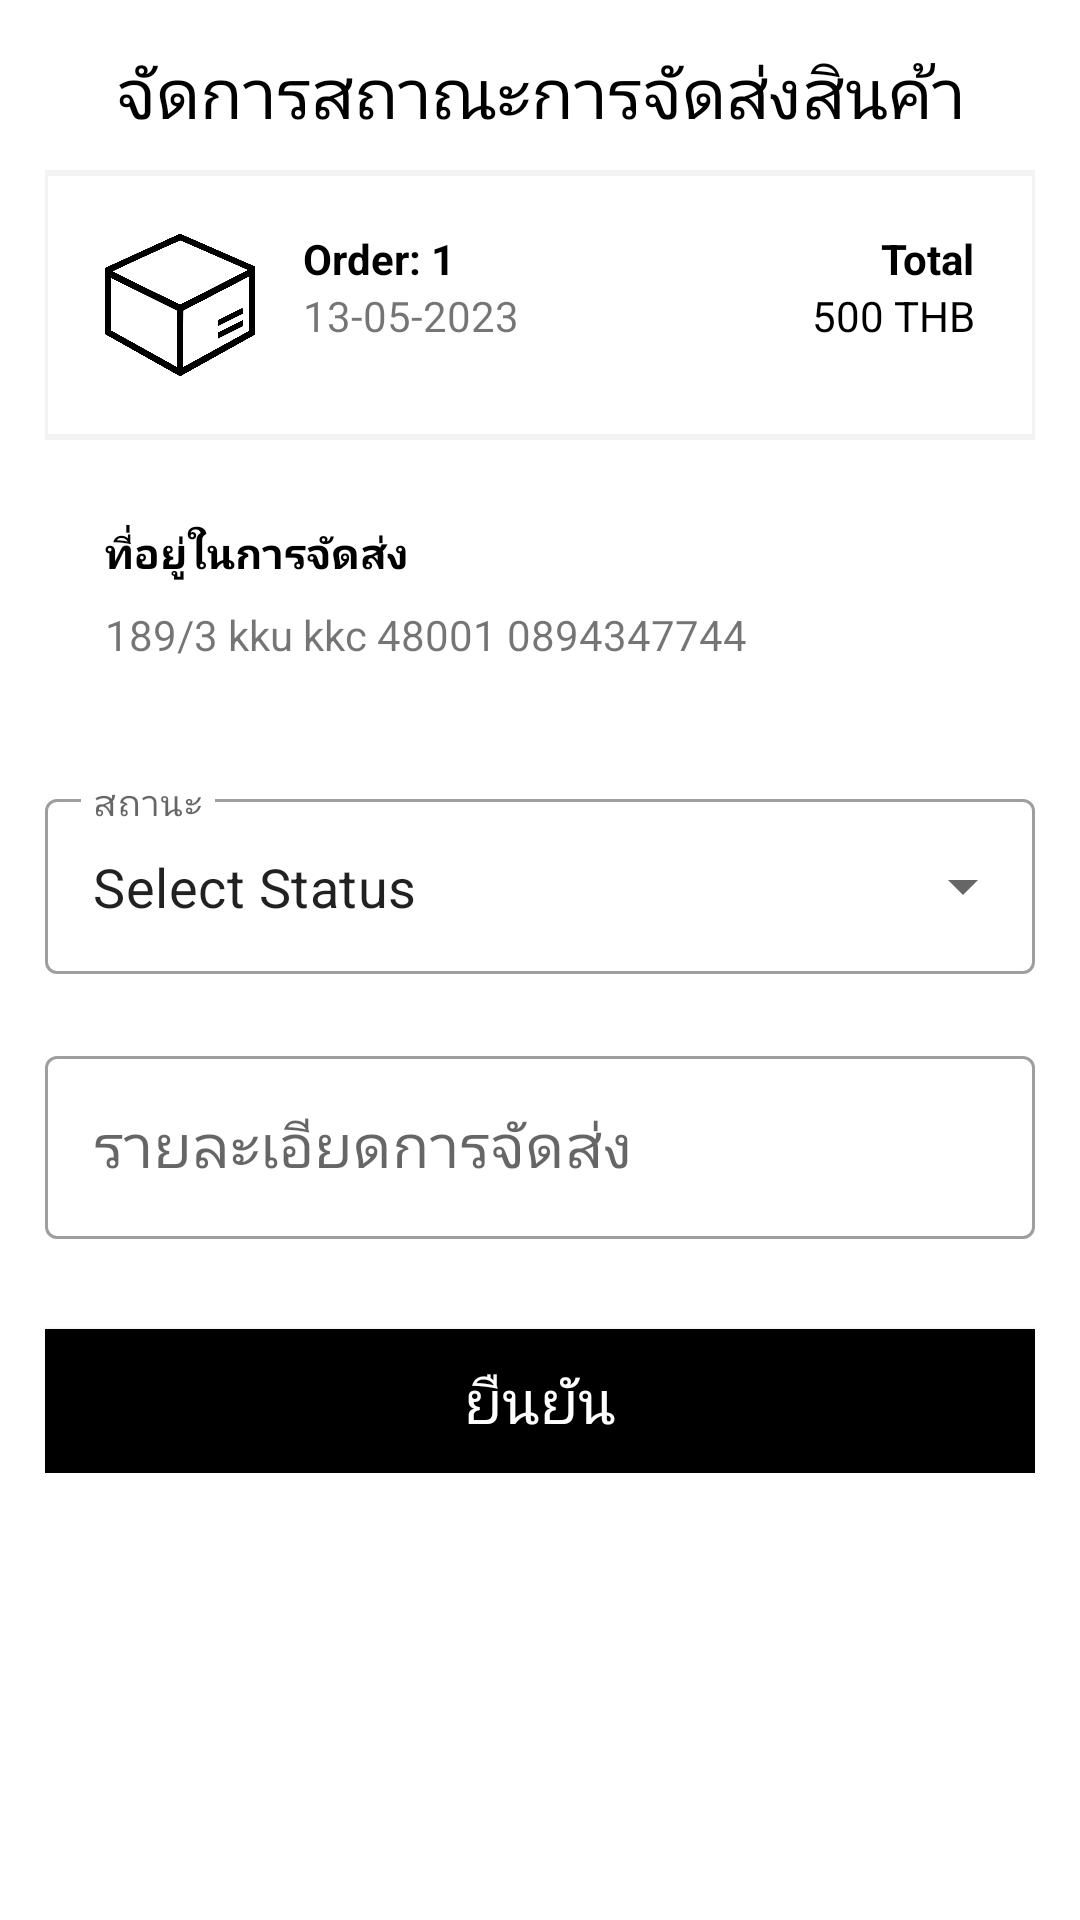

Icons on this 1080w x 1920h Android screen, each with its box as (x1, y1, x2, y2):
boxpng: (105, 234, 255, 376)
